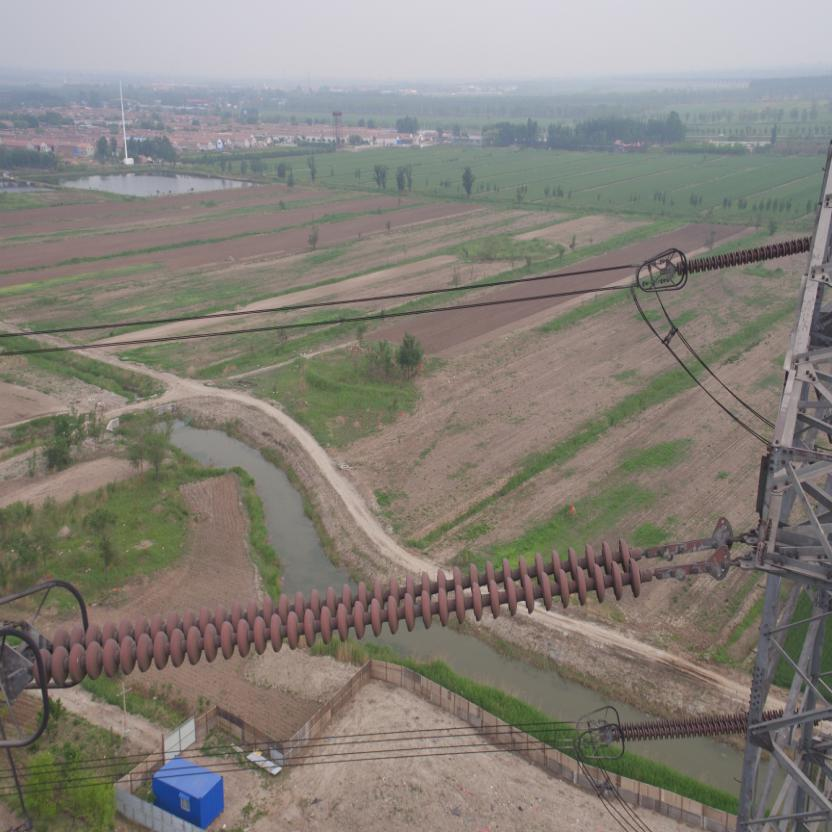insulator: (30, 528, 674, 691), (612, 700, 832, 744), (674, 232, 814, 282)
